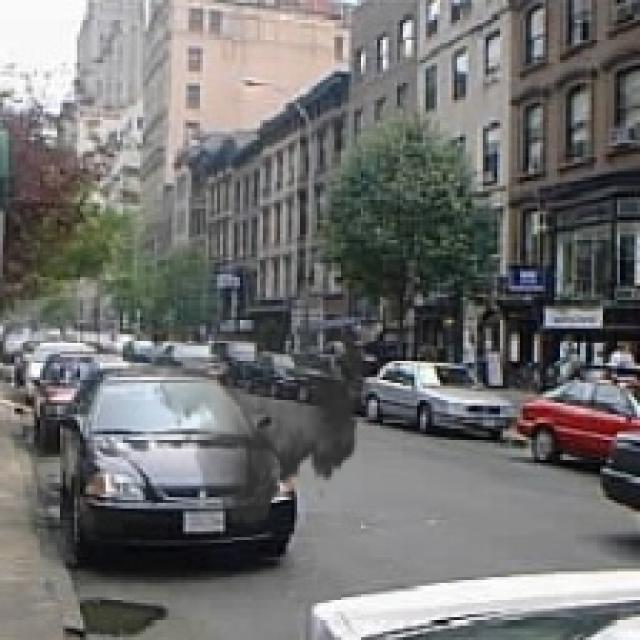smoke: (152, 257, 377, 537)
